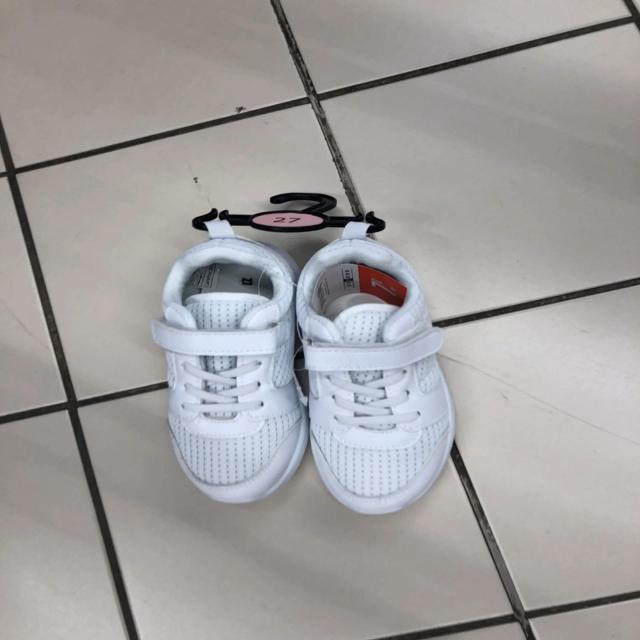shoe: (297, 225, 455, 516), (152, 242, 303, 506)
